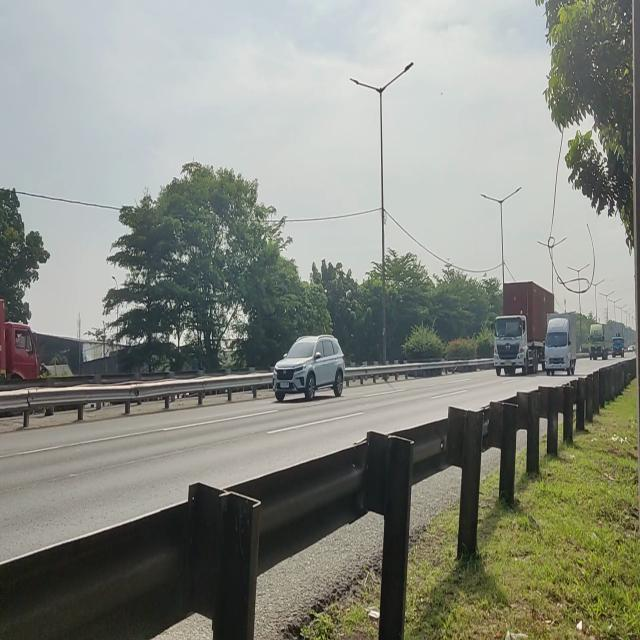Golongan I: (266, 329, 350, 405)
